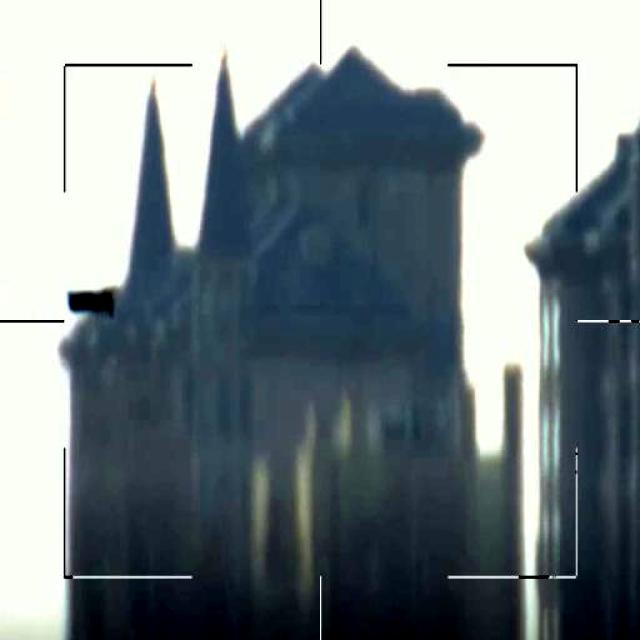bird: (64, 285, 114, 314)
